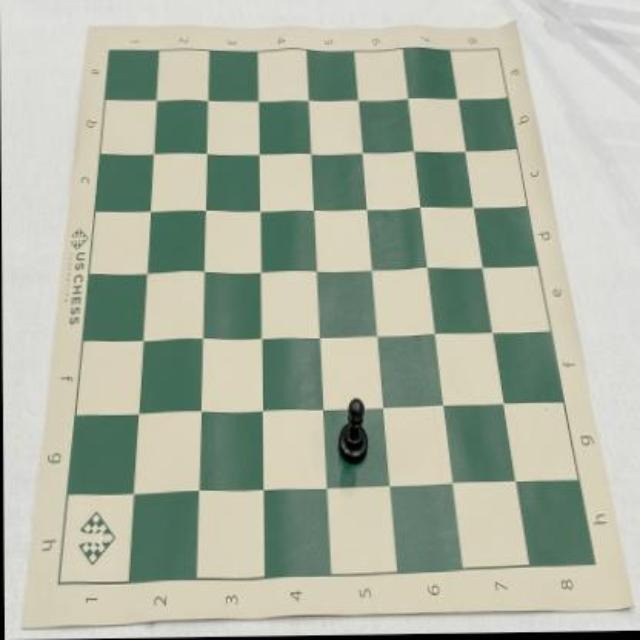black-pawn: (336, 398, 368, 465)
